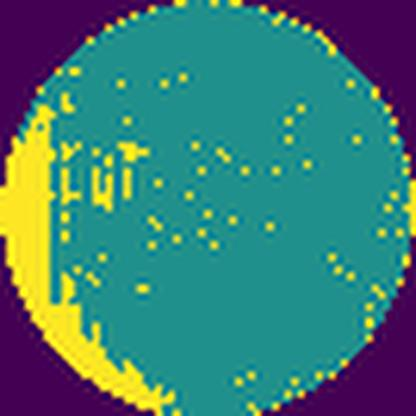Edge-Loc: (0, 100, 173, 415)
